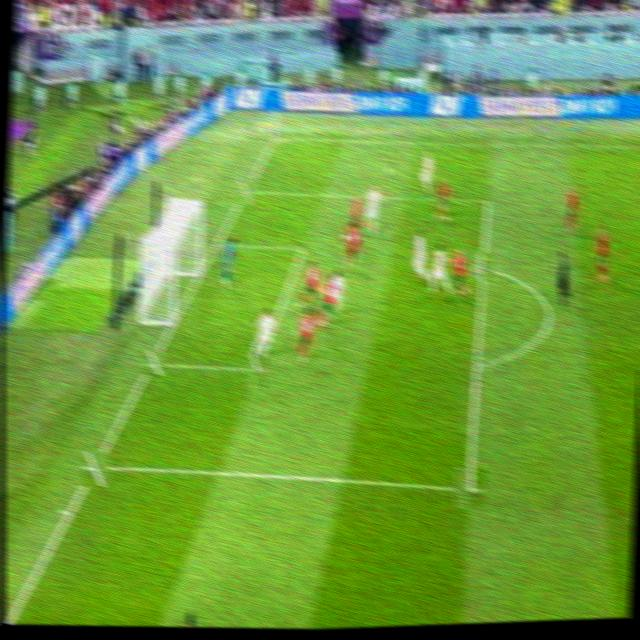bigarea_bottom_inner: (453, 466, 487, 509)
bigarea_bottom_outter: (78, 451, 110, 487)
bigarea_top_inner: (475, 188, 500, 218)
bigarea_top_outter: (236, 176, 254, 205)
bottom_arc_area_intersection: (465, 347, 491, 387)
corner: (267, 132, 282, 149)
smallarea_bottom_inner: (245, 351, 268, 388)
smallarea_bottom_outter: (138, 350, 164, 375)
smallarea_top_inner: (291, 239, 311, 265)
smallarea_top_outter: (206, 233, 224, 257)
top_arc_area_intersection: (470, 252, 493, 281)
